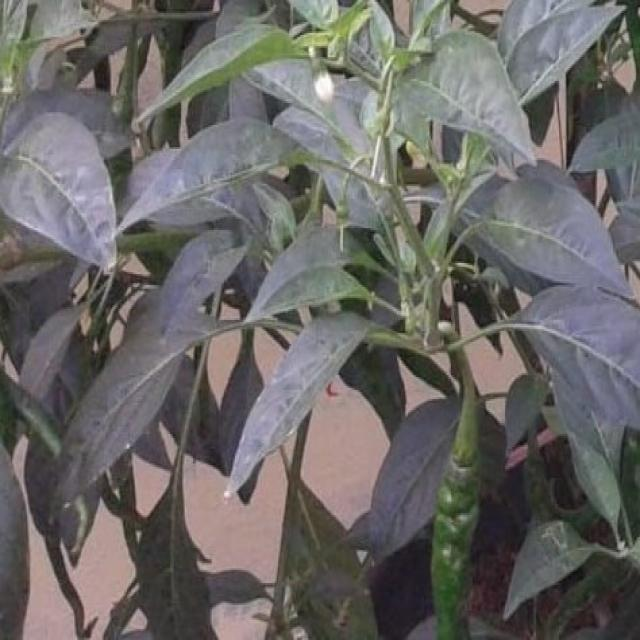sehat: (226, 278, 362, 502), (0, 88, 124, 278), (358, 383, 466, 552)
